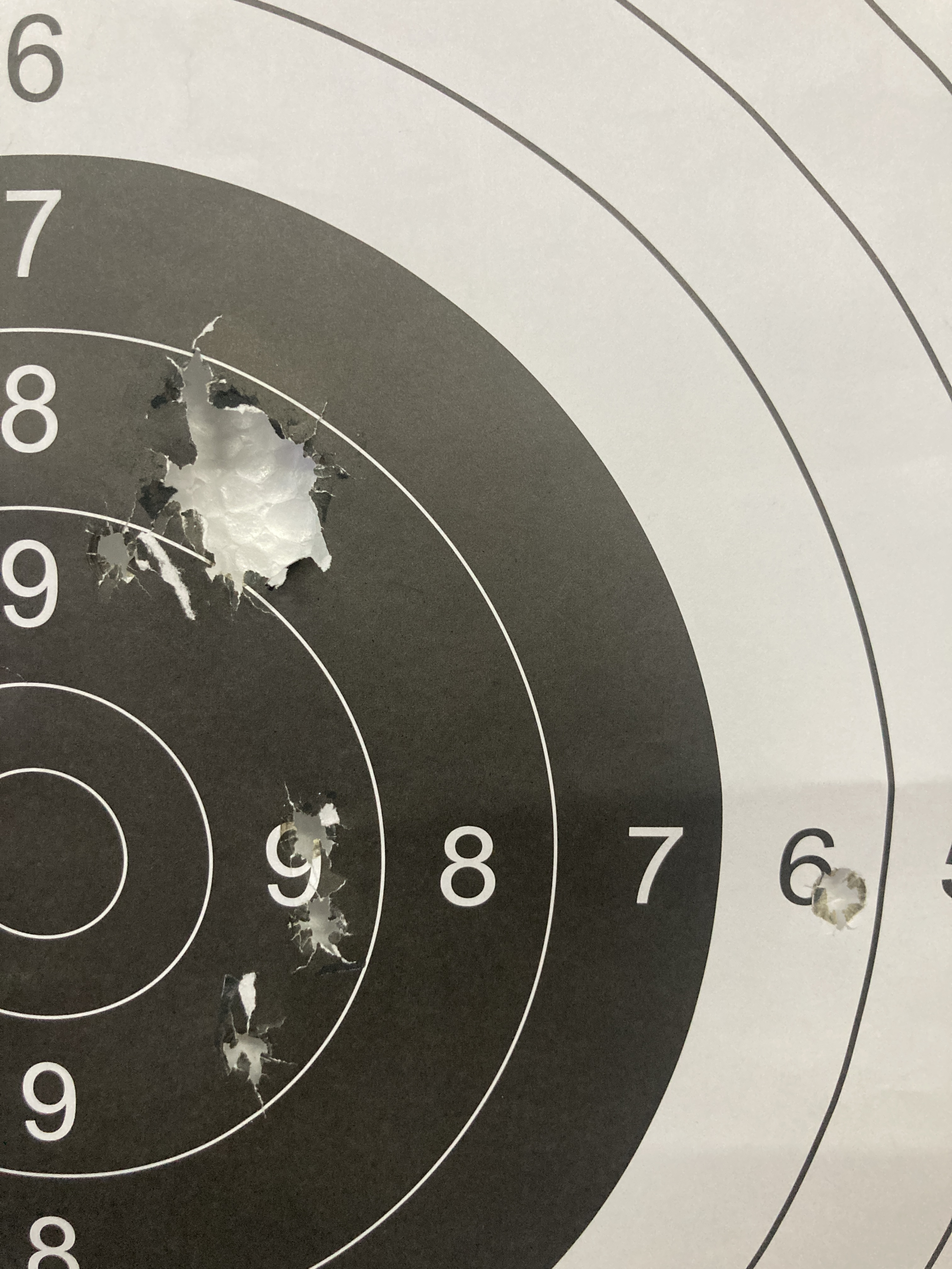hole: (135, 343, 378, 589), (54, 507, 157, 601), (261, 784, 353, 866), (809, 856, 875, 944), (205, 1029, 280, 1095), (286, 897, 353, 963)
